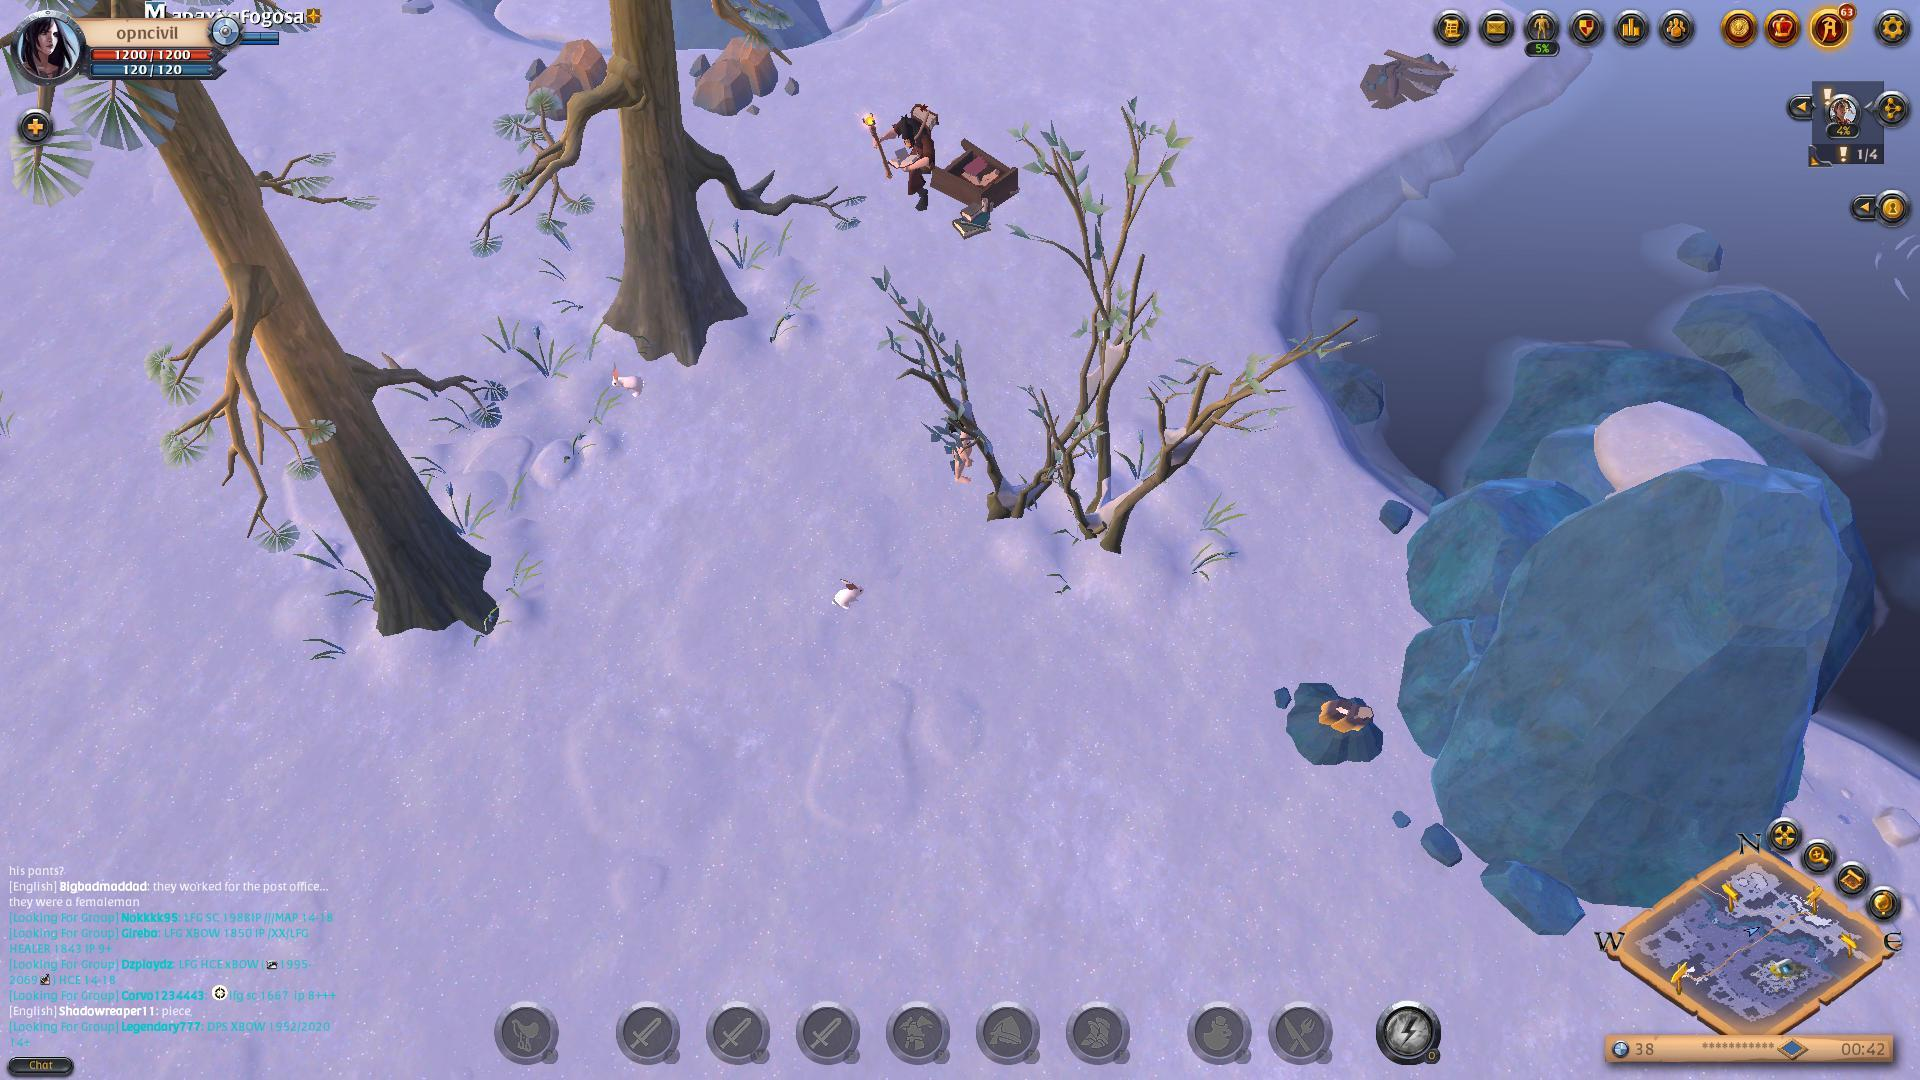copper_ore: (1273, 683, 1400, 764)
limestone: (683, 22, 775, 120)
mob: (858, 99, 952, 216)
